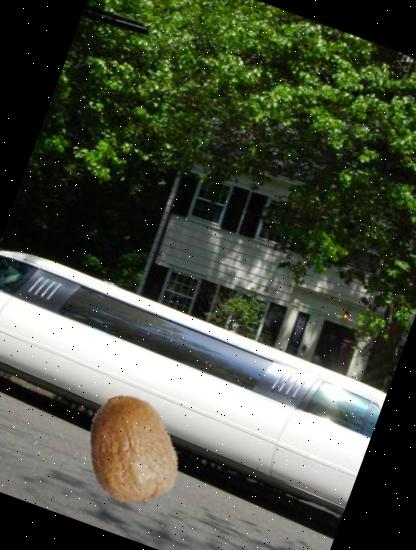Kiwi: (58, 378, 204, 523)
